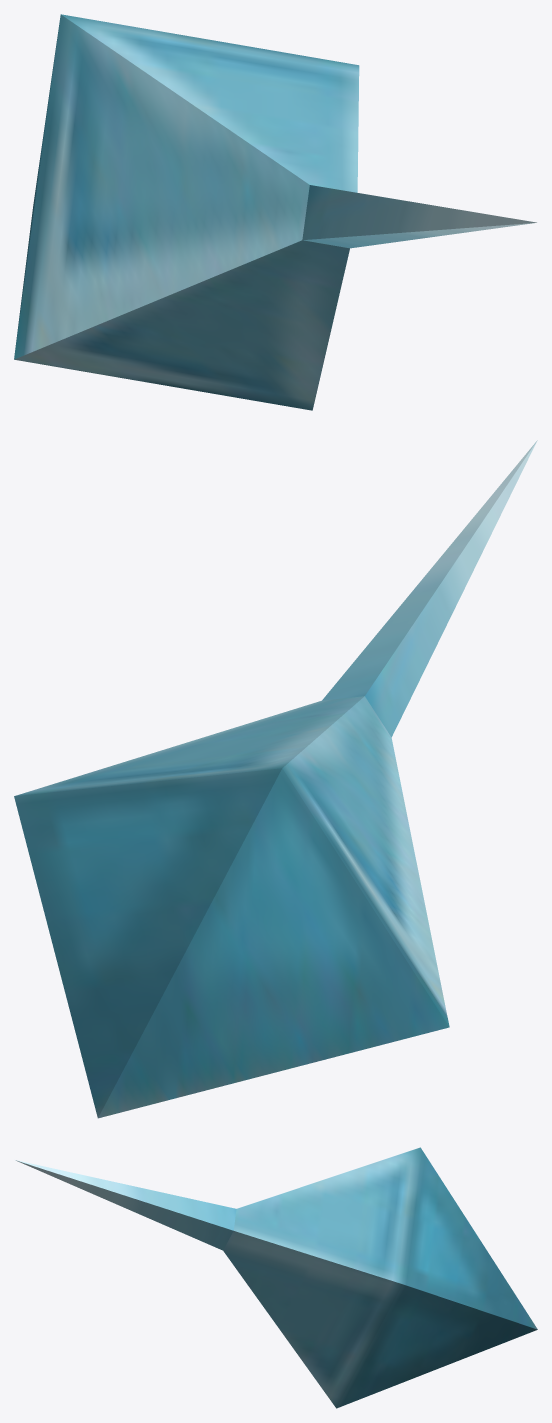
The model's file is shuijing.FBX.
3 renders of one model, top to bottom at view 1: azimuth 30°, elevation 25°; view 2: azimuth 150°, elevation 25°; view 3: azimuth 270°, elevation 25°, orthographic. The views are drawn at different scales.
Parts seen in each view (by area): view 1: shuijing; view 2: shuijing; view 3: shuijing.
Boxes of the visible parts, x1,y1,x2,y2 form: shuijing: (14,14,536,410); shuijing: (14,440,537,1118); shuijing: (15,1147,537,1408).
Size of the model in its own units: 162 by 165 by 340.
1 material, 1 textured.
